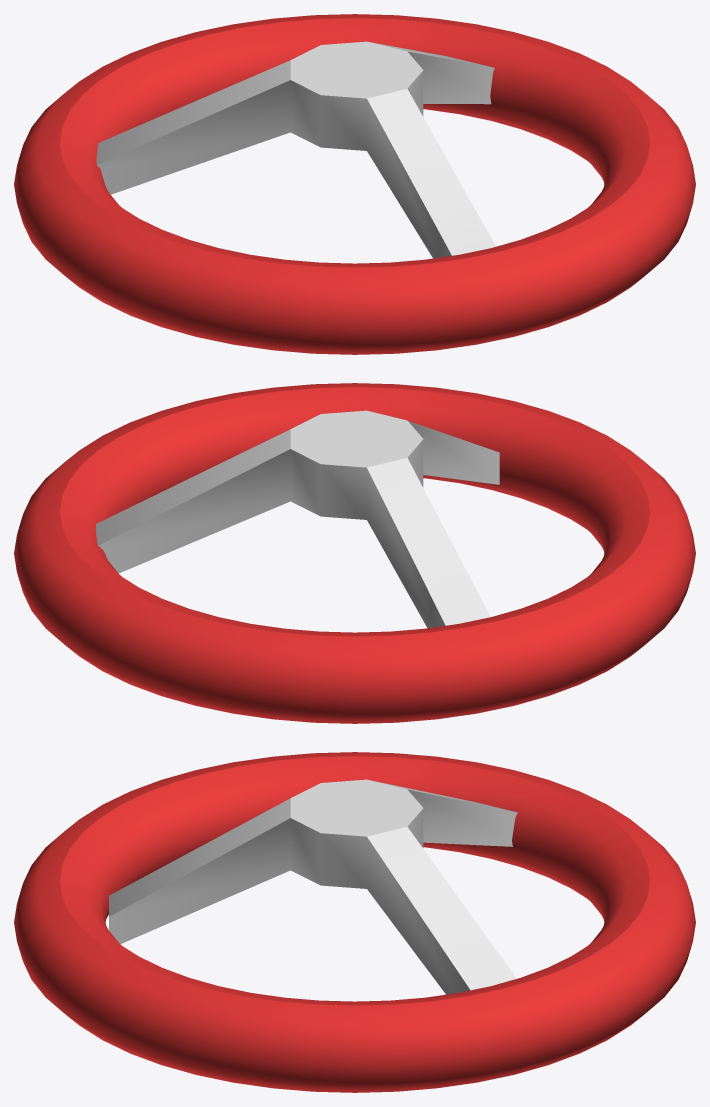
Rendered from steering.fbx.
3 views of the same model, one above another, from view 1: azimuth 30°, elevation 25°; view 2: azimuth 150°, elevation 25°; view 3: azimuth 270°, elevation 25° (orthographic).
Visible parts, largest first — view 1: FrontRTire; view 2: FrontRTire; view 3: FrontRTire.
Part boxes in pixels (x1,y1,x2,y2): FrontRTire: (14,14,695,354); FrontRTire: (14,383,695,723); FrontRTire: (14,752,695,1092).
Bounding box in the file's own units: 996 × 251 × 996.
